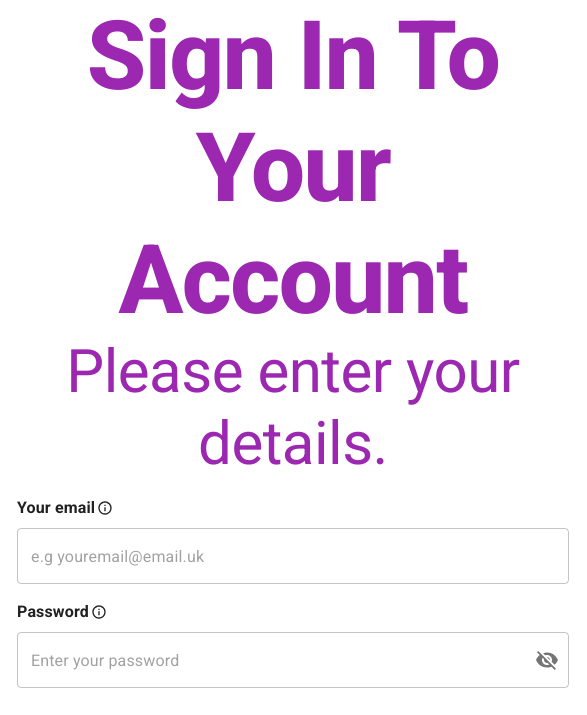
Login Page › Should show login error message on login error
Type "email@email.com" into the field with placeholder "e.g youremail@email.uk". click: (293, 556)
box: [17, 528, 569, 584]
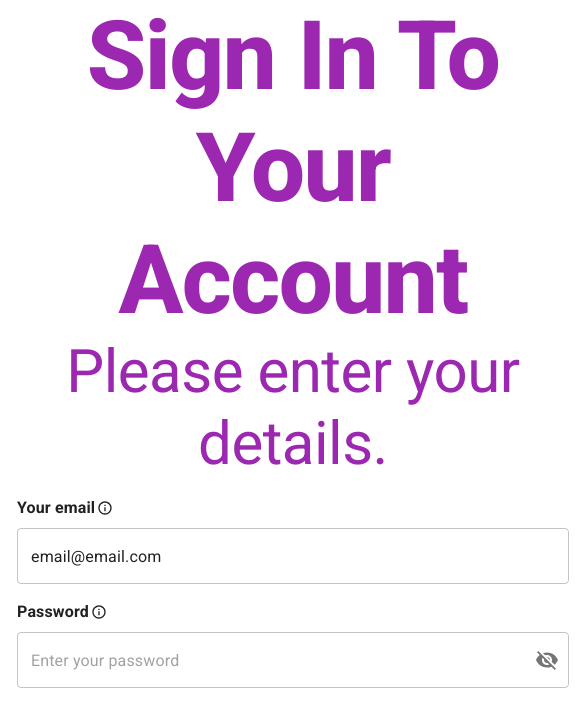
Type "123123" into the password field with placeholder "Enter your password". click: (268, 660)
box: [17, 632, 519, 688]
(page scrolled)
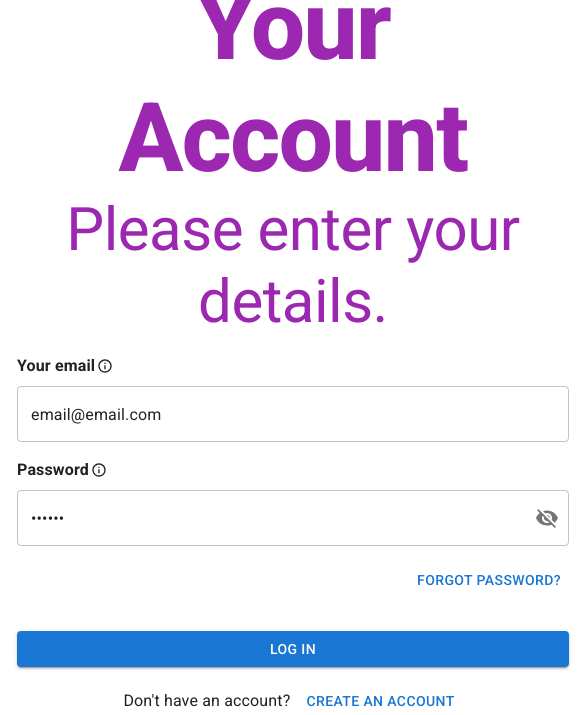
Click the button "Log In". click: (293, 649)
box: [17, 631, 569, 667]
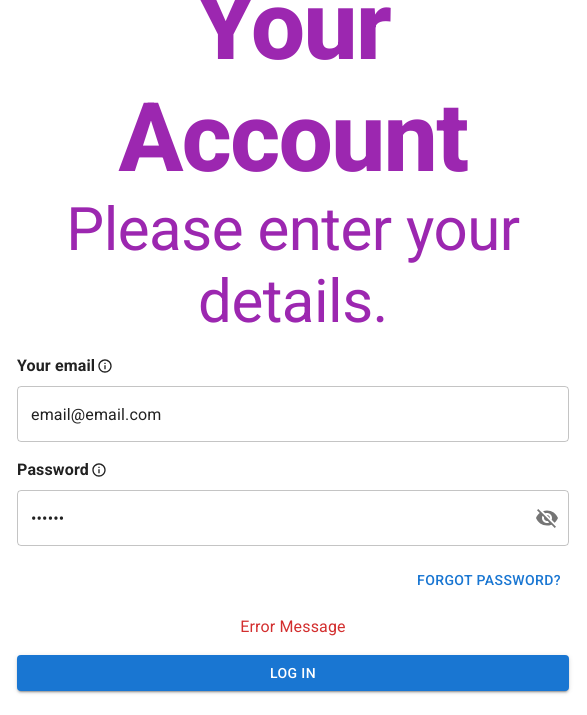
Check: the text "Error Message" is shown, box [240, 617, 346, 636]
